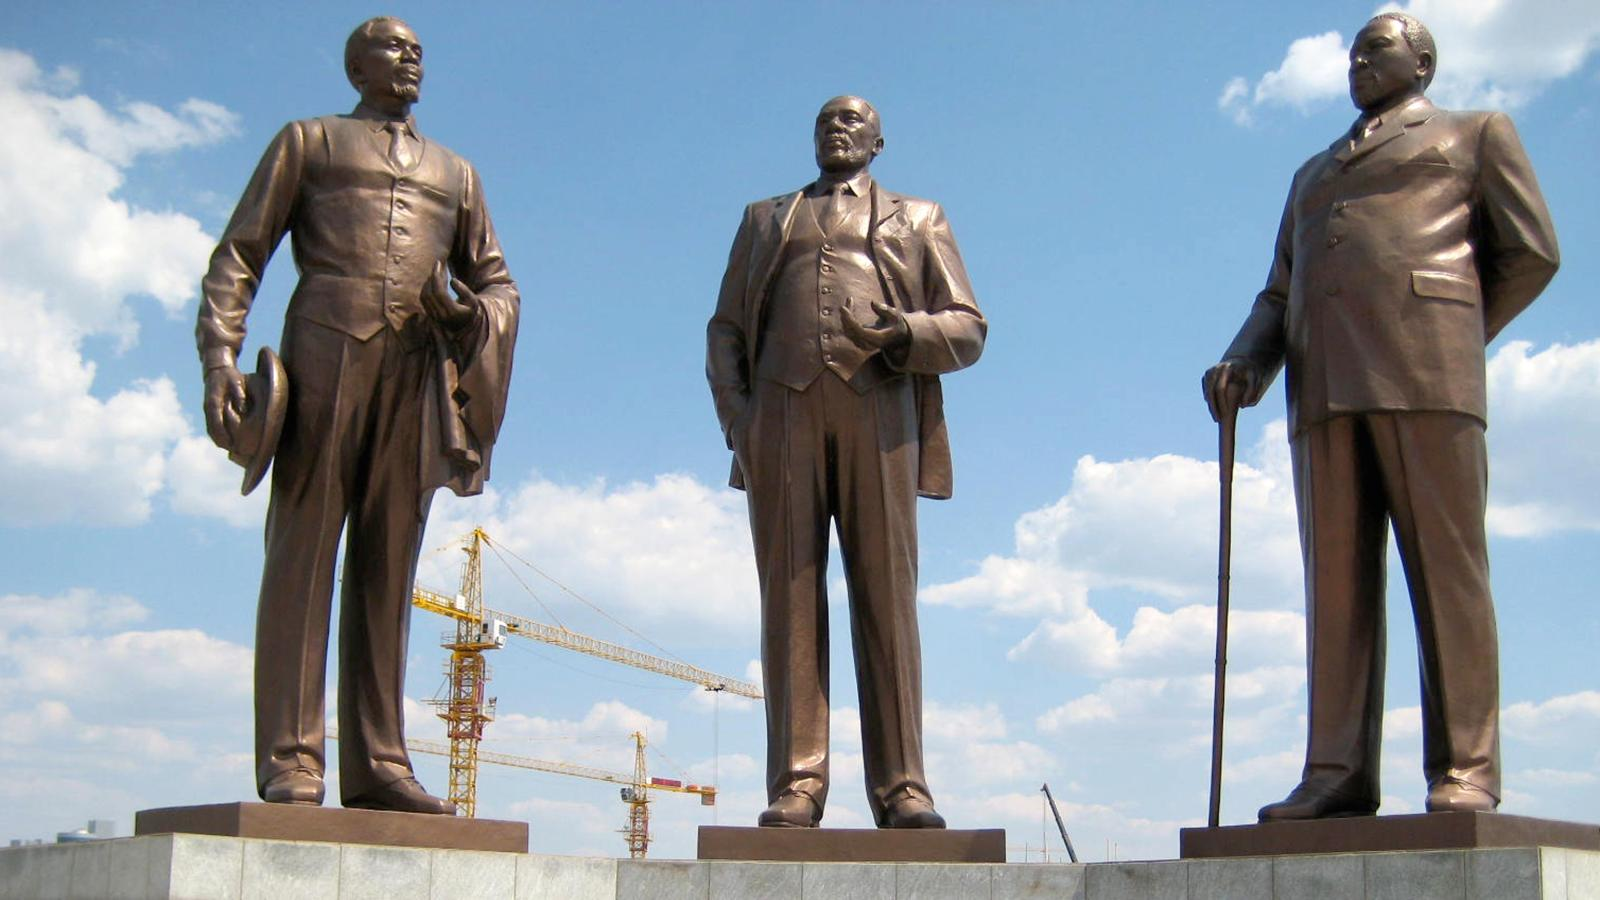person-like: (1183, 6, 1565, 828), (182, 10, 530, 822), (694, 86, 995, 829)
